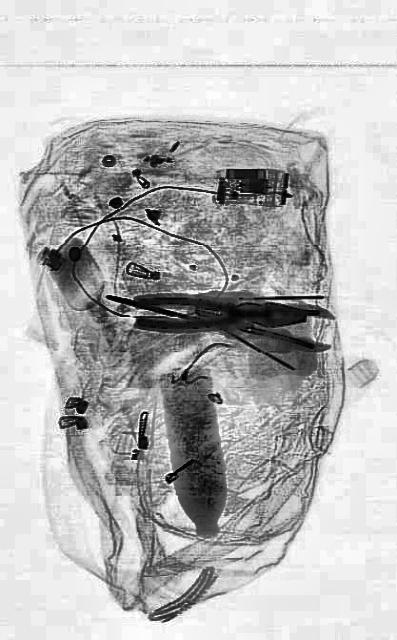Pliers: (136, 294, 306, 330)
